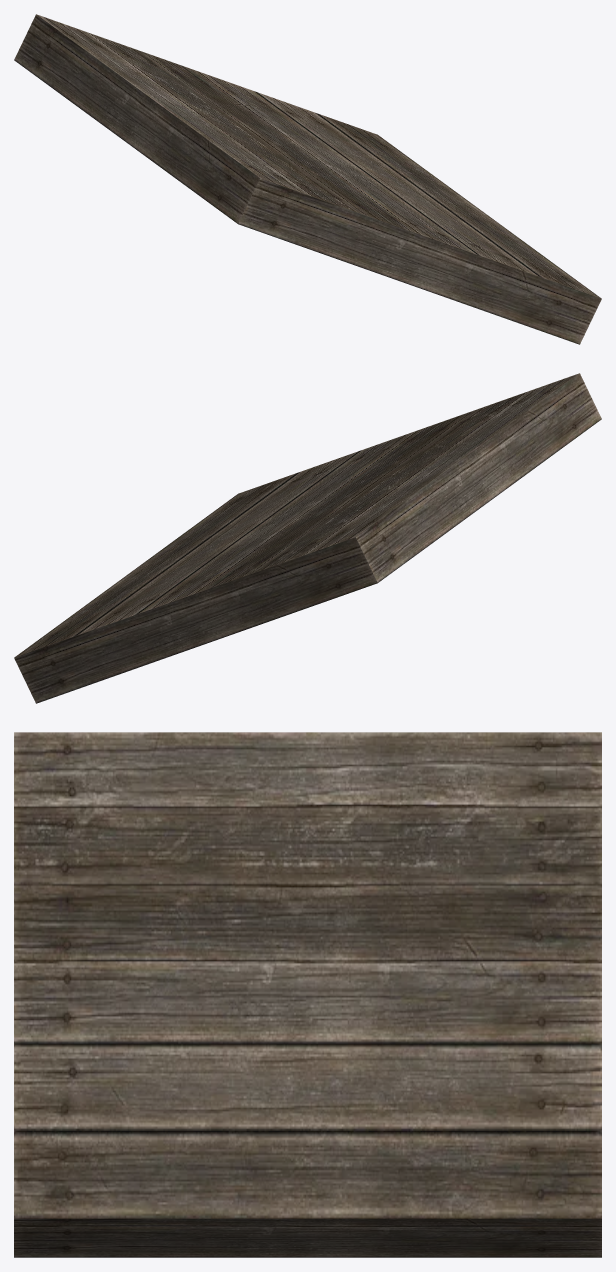
The model's file is eso_gu1_WoodPlatform4-transformed.glb.
3 views of the same model, one above another, from view 1: azimuth 30°, elevation 25°; view 2: azimuth 150°, elevation 25°; view 3: azimuth 270°, elevation 25° (orthographic). The views are drawn at different scales.
Parts seen in each view (by area): view 1: default; view 2: default; view 3: default.
Part boxes in pixels (left/top/right/bottom): default: left=14, top=14, right=601, bottom=344; default: left=14, top=373, right=601, bottom=703; default: left=14, top=732, right=601, bottom=1257.
Bounding box in the file's own units: 5.81 × 3.73 × 6.2.
1 material, 1 textured.
